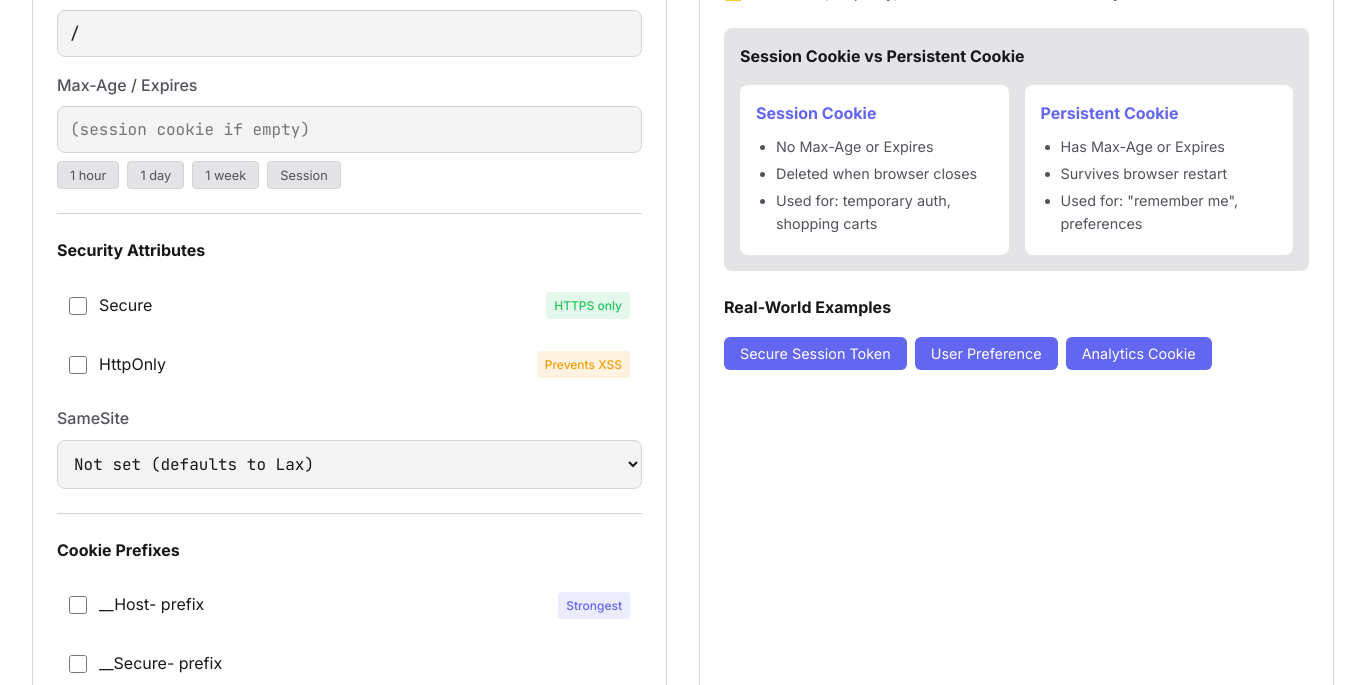
CookieAnatomy › shows Secure attribute in preview when enabled
The width and height of the screenshot is (1366, 685).
(page scrolled)
Click the checkbox labelled "Secure HTTPS only" at coordinates (78, 306), box [69,297,87,315]
(page scrolled)
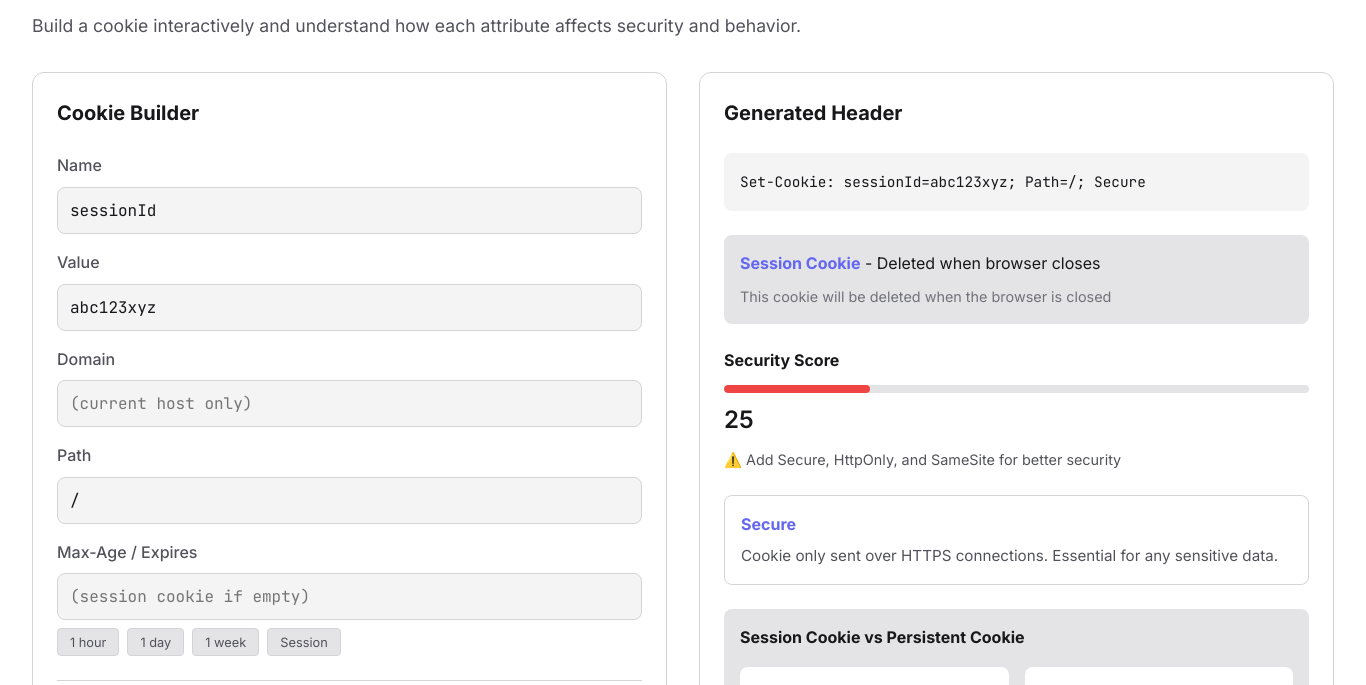
Expected: the element with test id "cookie-preview" shows "Secure", [740,172,1146,191]
